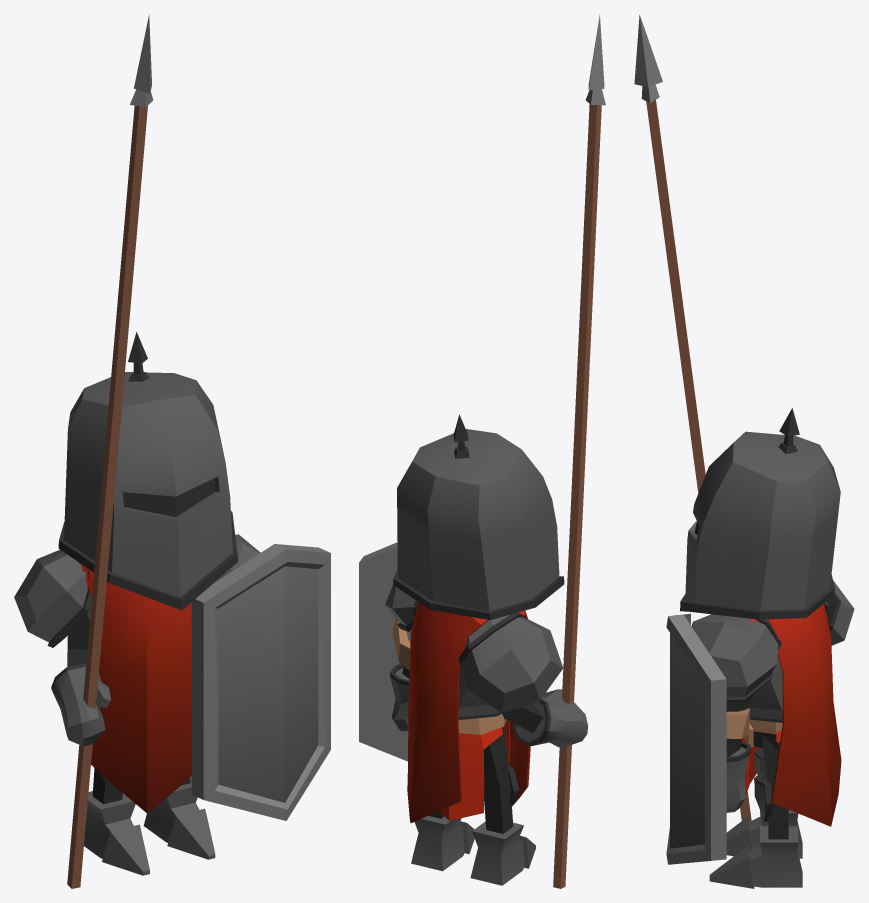
Rendered from Warrior_2.fbx.
The picture shows the model from 3 angles, left to right: view 1: azimuth 30°, elevation 25°; view 2: azimuth 150°, elevation 25°; view 3: azimuth 270°, elevation 25°; orthographic projection. The views are drawn at different scales.
Parts seen in each view (by area): view 1: Warrior_2; view 2: Warrior_2; view 3: Warrior_2.
Boxes of the visible parts, x1,y1,x2,y2 form: Warrior_2: [14, 14, 330, 888]; Warrior_2: [359, 14, 605, 888]; Warrior_2: [634, 15, 854, 888].
Bounding box in the file's own units: 71.67 × 243 × 58.14.
